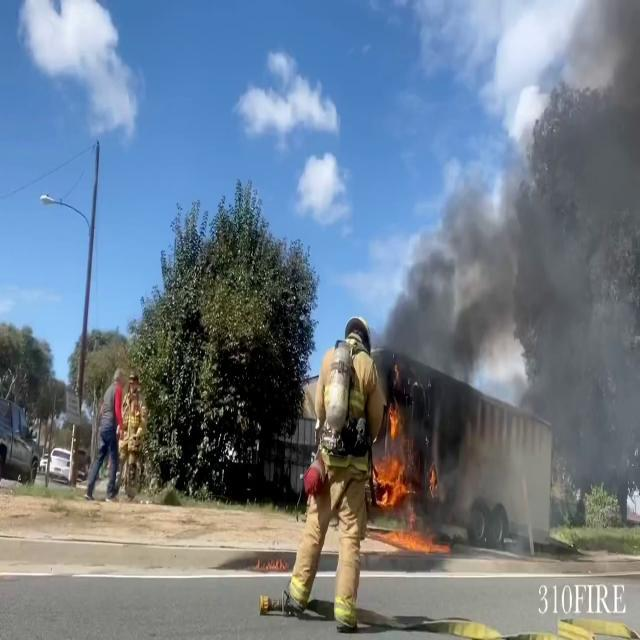Fire: (372, 396, 412, 516)
Smoke: (392, 3, 640, 510)
